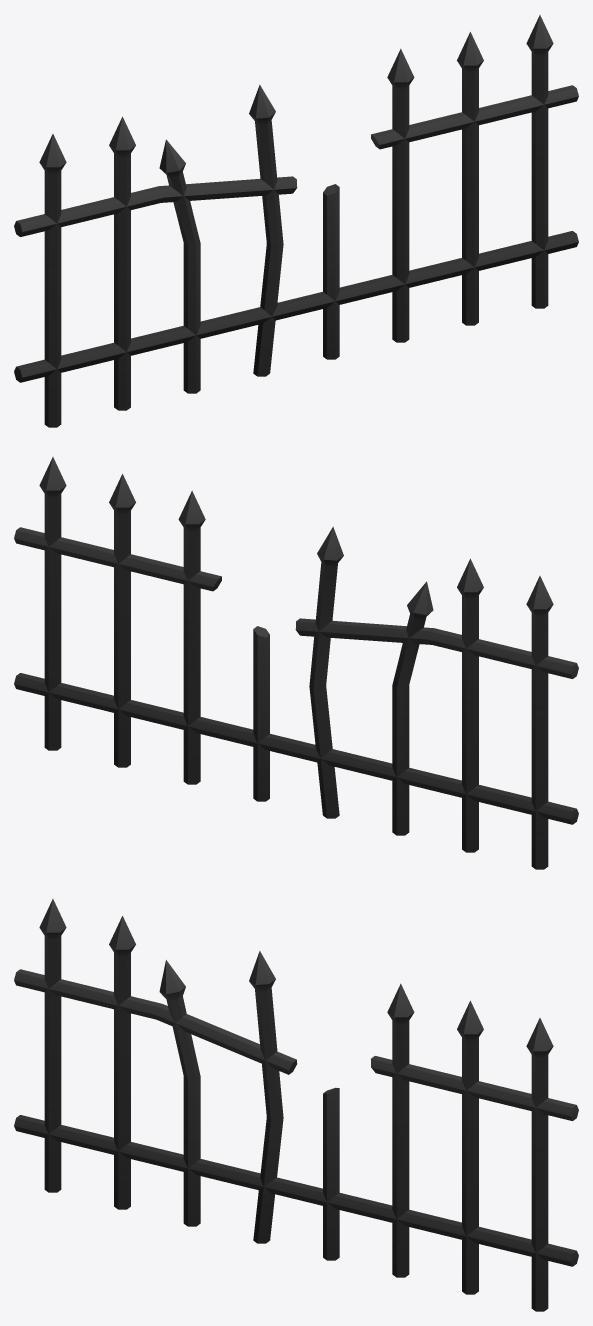
Rendered from fence_seperate_broken.glb.
3 renders of one model, top to bottom at view 1: azimuth 30°, elevation 25°; view 2: azimuth 150°, elevation 25°; view 3: azimuth 330°, elevation 25°, orthographic.
Visible parts, largest first — view 1: fence_seperate_broken; view 2: fence_seperate_broken; view 3: fence_seperate_broken.
Boxes of the visible parts, x1,y1,x2,y2 form: fence_seperate_broken: (14, 15, 578, 427); fence_seperate_broken: (14, 457, 578, 869); fence_seperate_broken: (14, 899, 578, 1311).
Size of the model in its own units: 4 by 2 by 0.1696.
Materials: 1 (1 with a texture image).
